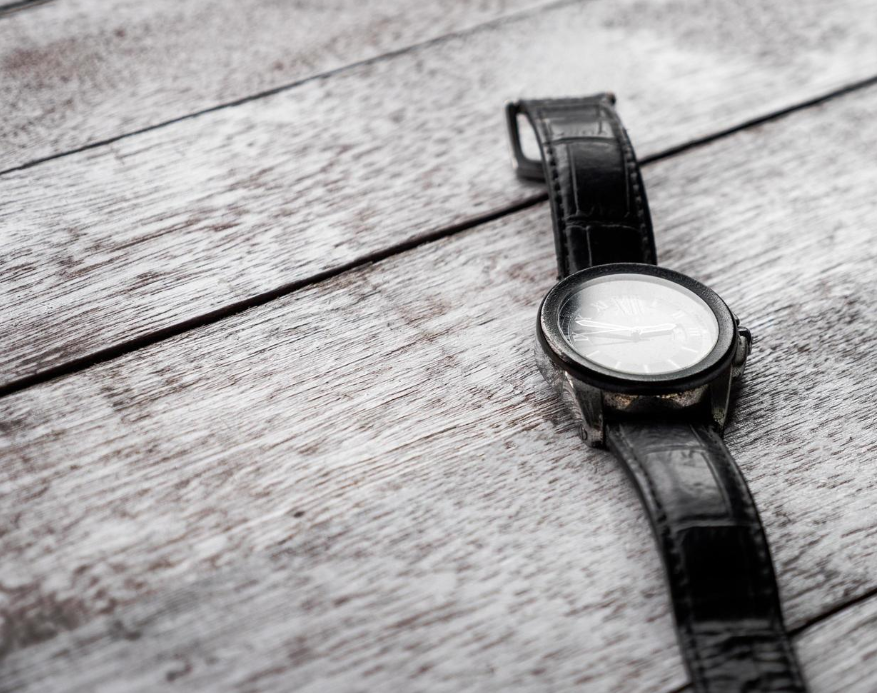Wrist watch: (473, 94, 834, 666)
